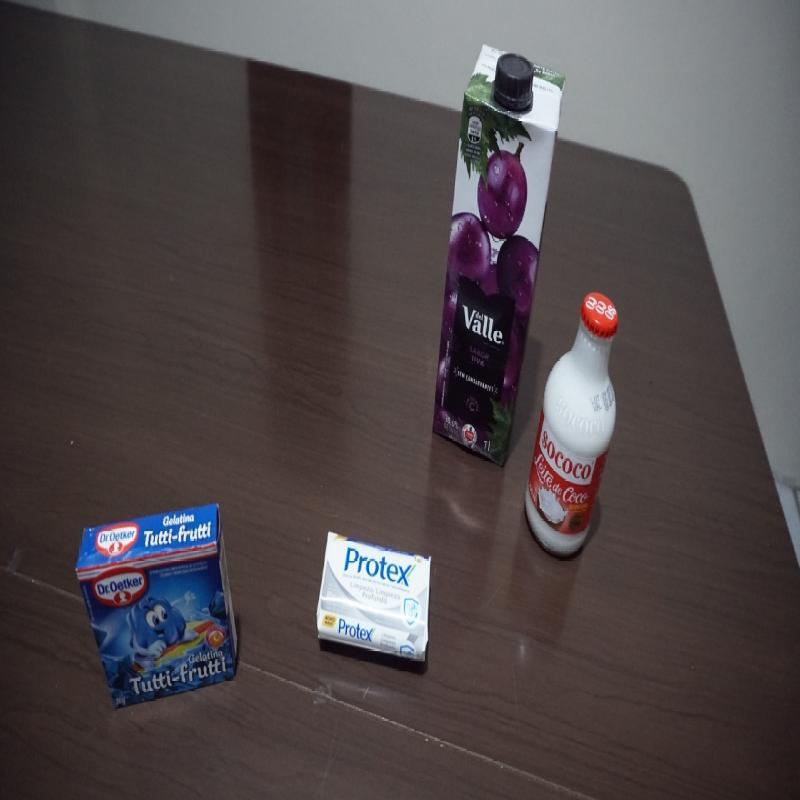Coconut Milk: (524, 292, 620, 559)
Gelatine: (77, 502, 240, 708)
Soap: (315, 527, 433, 672)
